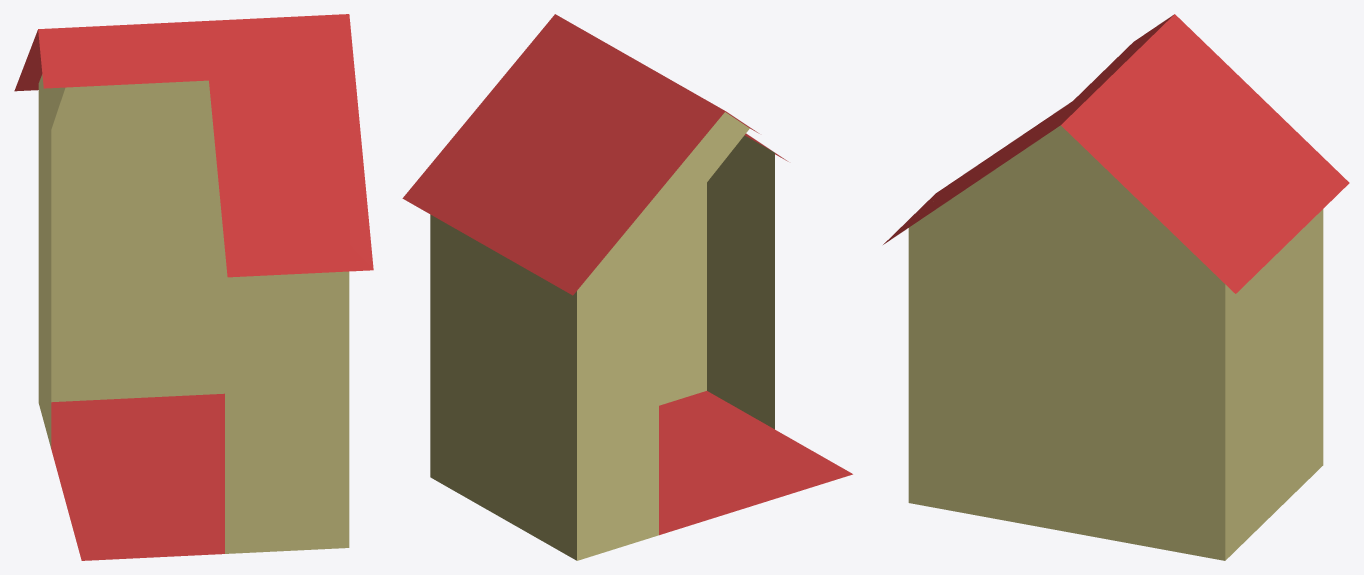
The picture shows the model from 3 angles, left to right: view 1: azimuth 30°, elevation 25°; view 2: azimuth 150°, elevation 25°; view 3: azimuth 270°, elevation 25°; orthographic projection. The views are drawn at different scales.
Bounding box in the file's own units: 9.71 × 11.64 × 11.39.
